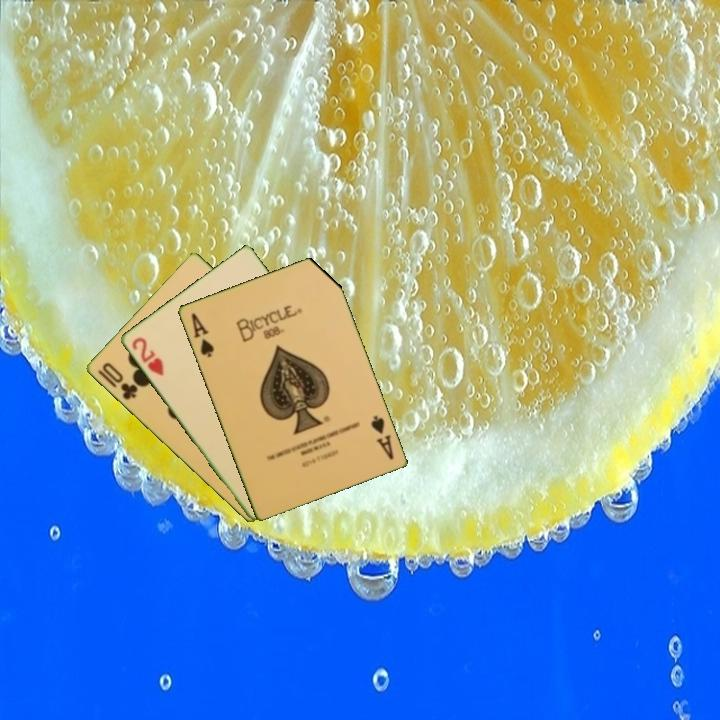10c: (94, 359, 140, 403)
2h: (128, 333, 166, 379)
As: (187, 309, 217, 360), (367, 412, 396, 462)
